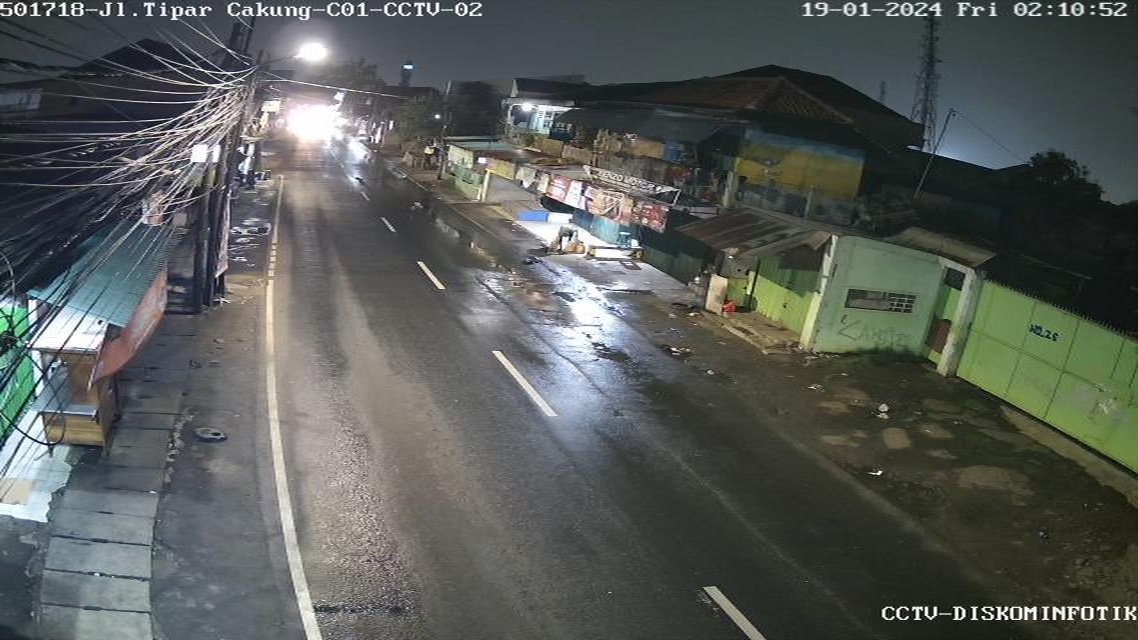Gerobak: (20, 278, 158, 454)
